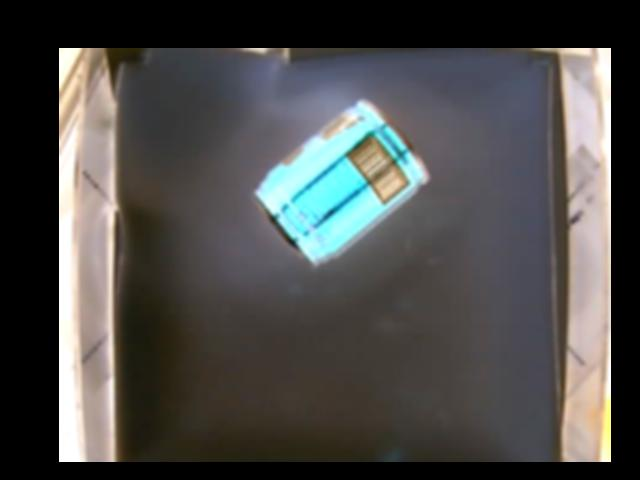Bottle: (253, 97, 426, 266)
